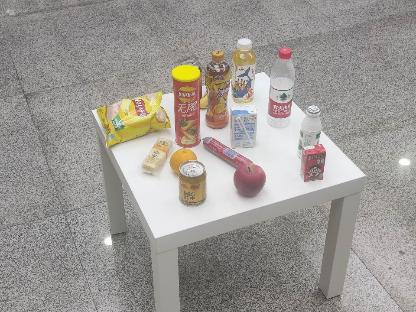Can: (178, 160, 208, 208)
Others: (168, 64, 204, 146), (227, 104, 261, 150), (295, 144, 329, 184)
Plastic Bottle: (268, 47, 296, 130), (298, 106, 322, 151)
